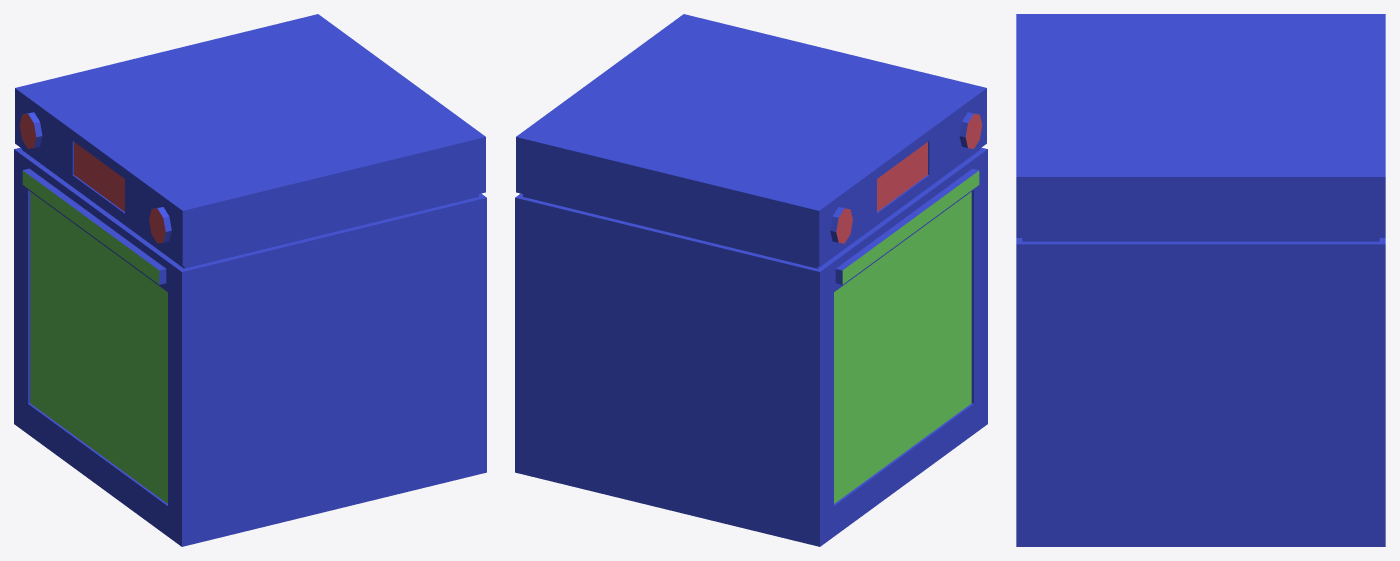
File: Oven.fbx
The picture shows the model from 3 angles, left to right: view 1: azimuth 30°, elevation 25°; view 2: azimuth 150°, elevation 25°; view 3: azimuth 270°, elevation 25°; orthographic projection. The views are drawn at different scales.
Visible parts, largest first — view 1: Oven; view 2: Oven; view 3: Oven.
Boxes of the visible parts, bbox=[...] form: Oven: bbox=[14, 14, 486, 546]; Oven: bbox=[515, 14, 987, 546]; Oven: bbox=[1016, 14, 1385, 546].
Size of the model in its own units: 123 by 126 by 114.
